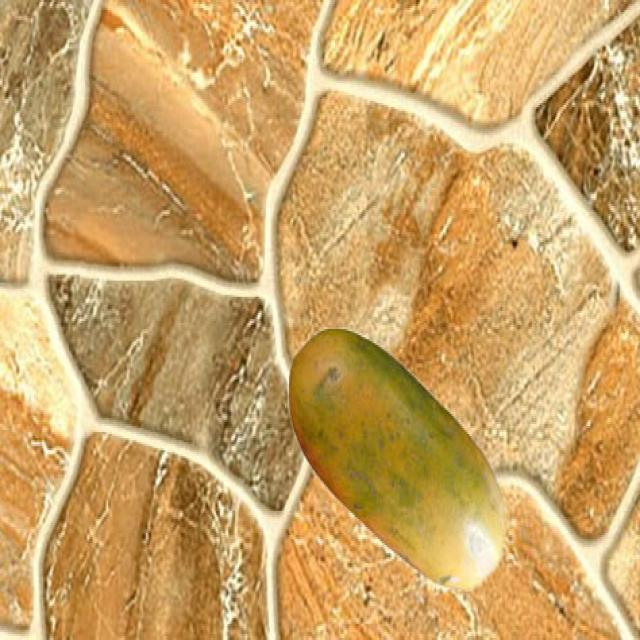Pepaya rippen: (274, 325, 506, 602)
